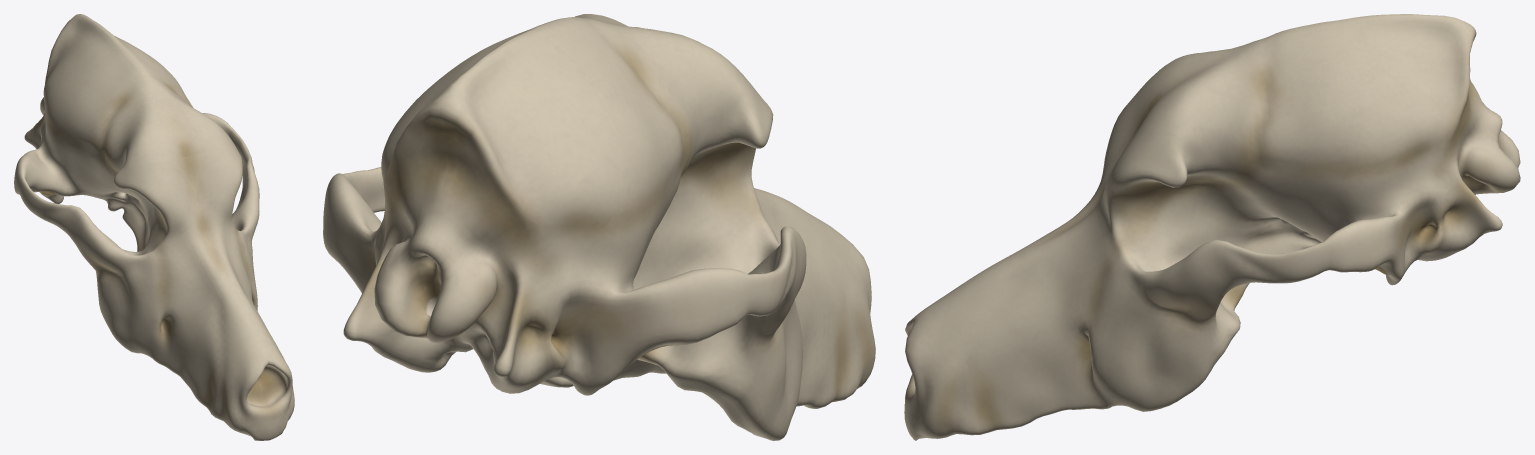
The model's file is Maxilla.fbx.
3 renders of one model, left to right at view 1: azimuth 30°, elevation 25°; view 2: azimuth 150°, elevation 25°; view 3: azimuth 270°, elevation 25°, orthographic. The views are drawn at different scales.
Parts seen in each view (by area): view 1: Maxilla; view 2: Maxilla; view 3: Maxilla.
Boxes of the visible parts, x1,y1,x2,y2 form: Maxilla: [14, 14, 294, 440]; Maxilla: [323, 14, 875, 440]; Maxilla: [904, 14, 1520, 440].
Bounding box in the file's own units: 23.04 × 29.63 × 39.34.
